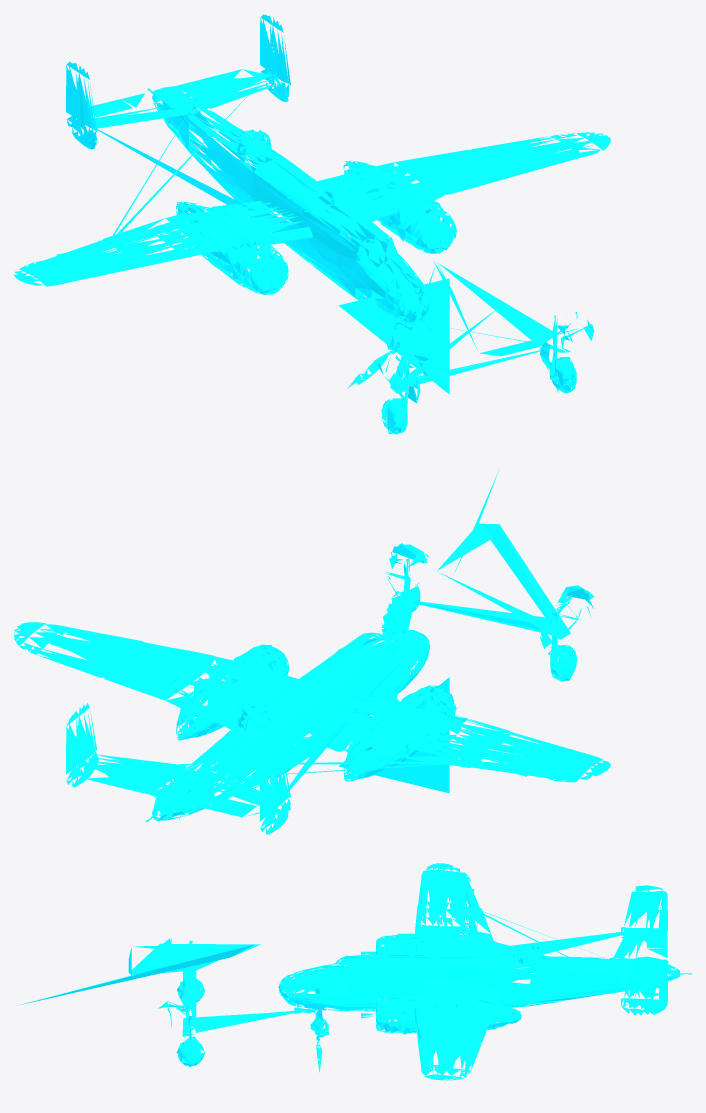
File: PAAD548.glb
3 renders of one model, top to bottom at view 1: azimuth 30°, elevation 25°; view 2: azimuth 150°, elevation 25°; view 3: azimuth 270°, elevation 25°, orthographic. The views are drawn at different scales.
Visible parts, largest first — view 1: misc; view 2: misc; view 3: misc.
Part boxes in pixels (box(x1,y1,x2,y2)): misc: box(14, 14, 610, 434); misc: box(14, 469, 610, 834); misc: box(19, 863, 691, 1080).
Bounding box in the file's own units: 1.37 × 0.4637 × 1.81.
